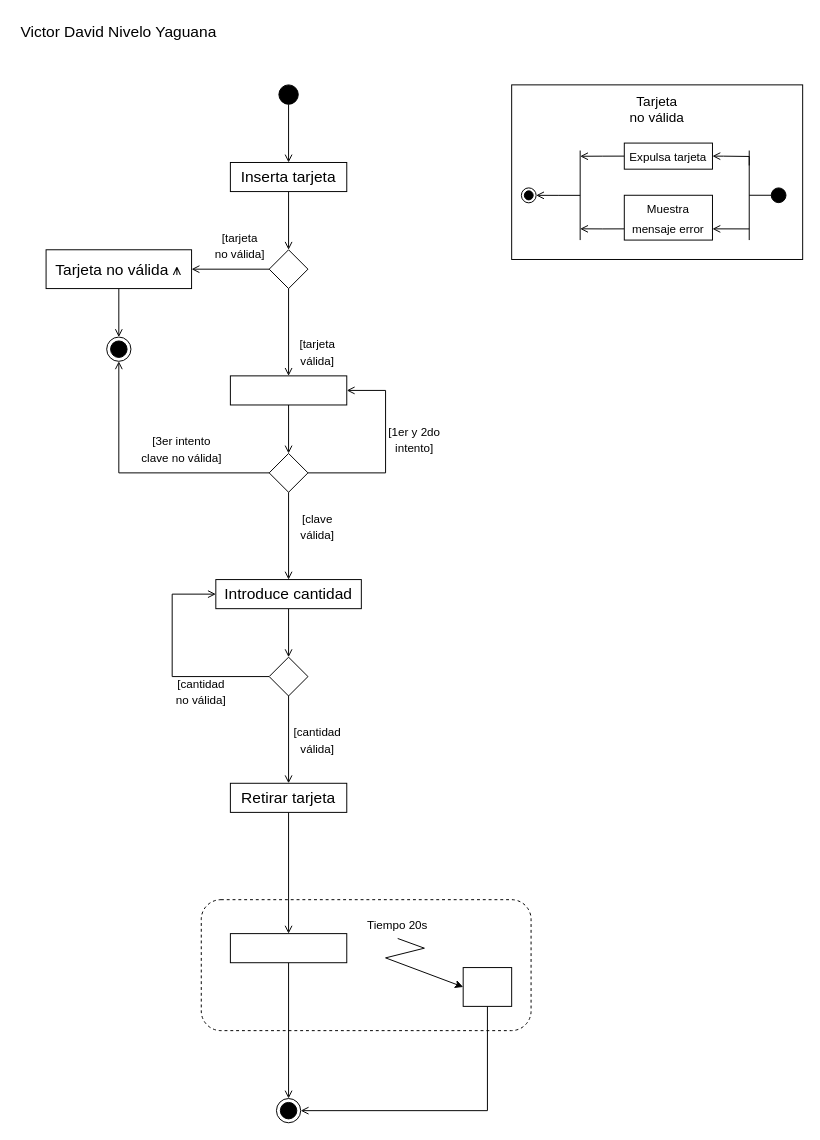
Image size: 820x1140. Some labels were removed from this diagram. Here are the shapes that lost their labels. From the top down, the centre of each, then its label:
At pixel 288 390: "Ingresa clave".
At pixel 288 948: "Retirar dinero".
At pixel 487 986: "Retener dinero".
